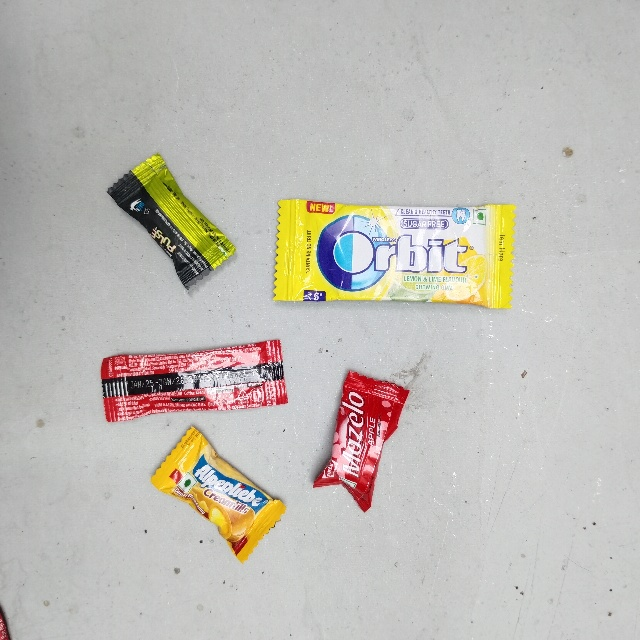Alpenlibe Creamfills: (142, 476, 218, 616)
Mazelo: (348, 365, 414, 502)
Nescafe Coffee: (94, 352, 288, 420)
Orbit: (276, 197, 514, 307)
Pulse: (97, 190, 172, 331)
